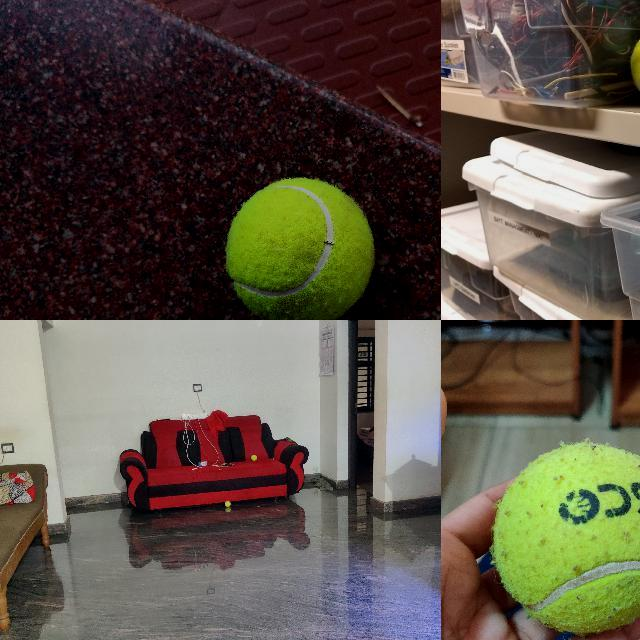Tennis Ball: (491, 439, 639, 634), (225, 177, 375, 319), (629, 24, 639, 107), (251, 454, 257, 460), (224, 501, 230, 507)
